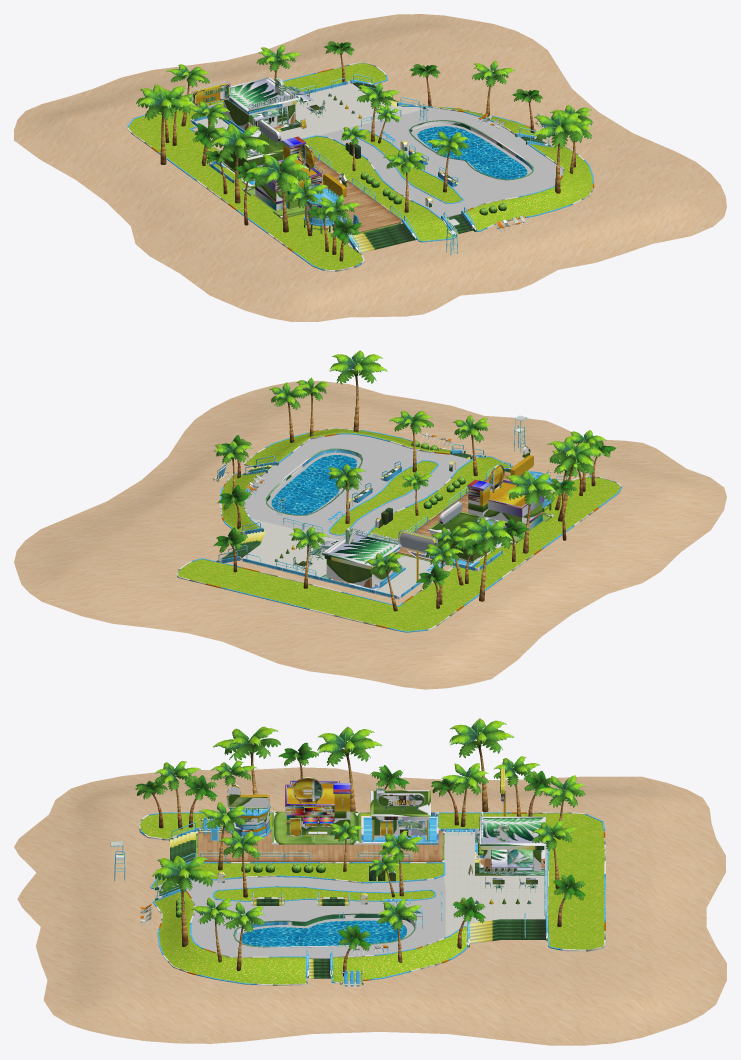
Rendered from summer_land.FBX.
3 views of the same model, one above another, from view 1: azimuth 30°, elevation 25°; view 2: azimuth 150°, elevation 25°; view 3: azimuth 270°, elevation 25° (orthographic). The views are drawn at different scales.
Parts seen in each view (by area): view 1: summer_sand, summer_plant, summer_plam, summer_tile_dark, summer_terrain_obj, summer_cafe, summer_terrain, summer_tile_light, pool_water, summer_hamberg, summer_tile_wood, summer_banana (+3 smaller); view 2: summer_sand, summer_plant, summer_plam, summer_tile_dark, summer_terrain, summer_terrain_obj, summer_cafe, summer_tile_light, summer_hamberg, pool_water, summer_banana, summer_tile_wood (+1 smaller); view 3: summer_sand, summer_plam, summer_plant, summer_tile_dark, summer_terrain_obj, summer_tile_light, summer_terrain, summer_hamberg, summer_cafe, summer_tile_wood, summer_banana, pool_water (+3 smaller).
Boxes of the visible parts, box(x1,y1,x2,y2) form: summer_sand: box(14, 14, 726, 321); summer_plant: box(128, 63, 592, 269); summer_plam: box(136, 41, 593, 261); summer_tile_dark: box(320, 108, 562, 217); summer_terrain_obj: box(296, 74, 550, 255); summer_cafe: box(191, 77, 313, 134); summer_terrain: box(127, 62, 594, 271); summer_tile_light: box(190, 83, 429, 146); pool_water: box(417, 126, 527, 179); summer_hamberg: box(242, 136, 323, 218); summer_tile_wood: box(283, 155, 401, 234); summer_banana: box(215, 119, 283, 186); summer_sand: box(14, 380, 726, 689); summer_plant: box(178, 428, 620, 631); summer_plam: box(213, 350, 615, 611); summer_tile_dark: box(244, 434, 470, 540); summer_terrain: box(177, 428, 621, 632); summer_terrain_obj: box(212, 415, 566, 575); summer_cafe: box(308, 527, 438, 590); summer_tile_light: box(240, 519, 446, 599); summer_hamberg: box(465, 465, 553, 544); pool_water: box(271, 455, 357, 514); summer_banana: box(423, 501, 502, 566); summer_tile_wood: box(397, 472, 552, 564); summer_sand: box(14, 767, 726, 1045); summer_plam: box(135, 718, 585, 976); summer_plant: box(140, 813, 604, 984); summer_tile_dark: box(186, 876, 445, 958); summer_terrain_obj: box(110, 817, 548, 986); summer_tile_light: box(197, 832, 547, 936); summer_terrain: box(138, 812, 605, 985); summer_hamberg: box(271, 777, 360, 844); summer_cafe: box(468, 767, 545, 875); summer_tile_wood: box(198, 830, 442, 861); summer_banana: box(361, 788, 438, 844); pool_water: box(242, 920, 406, 946).
Bounding box in the file's own units: 52.45 × 8.82 × 56.79.
